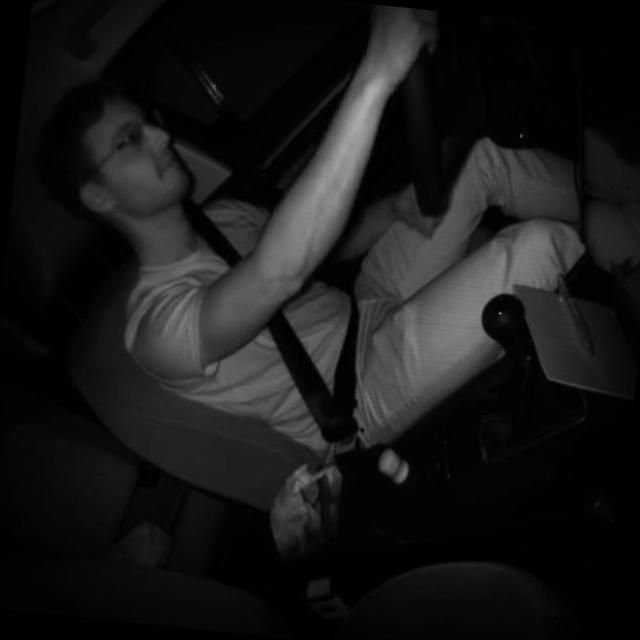pen: (545, 262, 606, 362)
